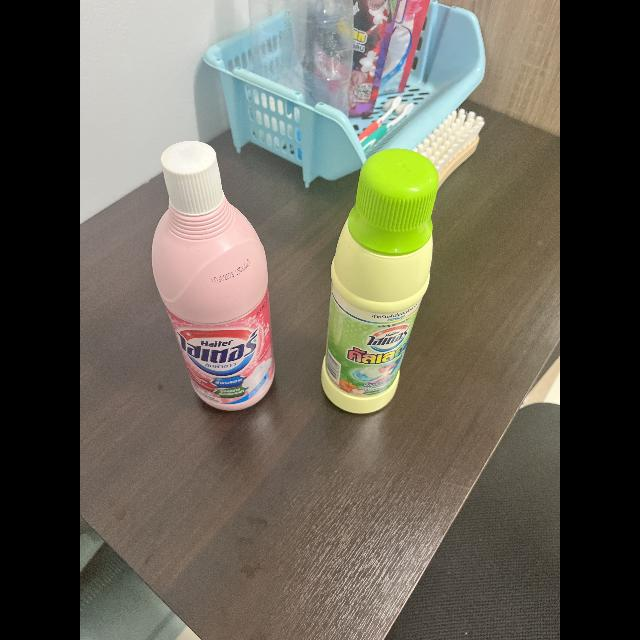chemical_plastic_bottle: (315, 142, 451, 418), (149, 134, 283, 414)
